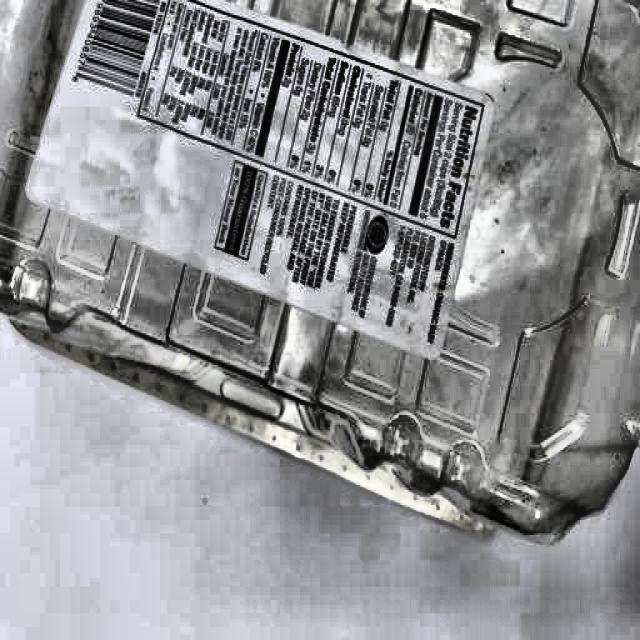plastic: (4, 0, 640, 540)
